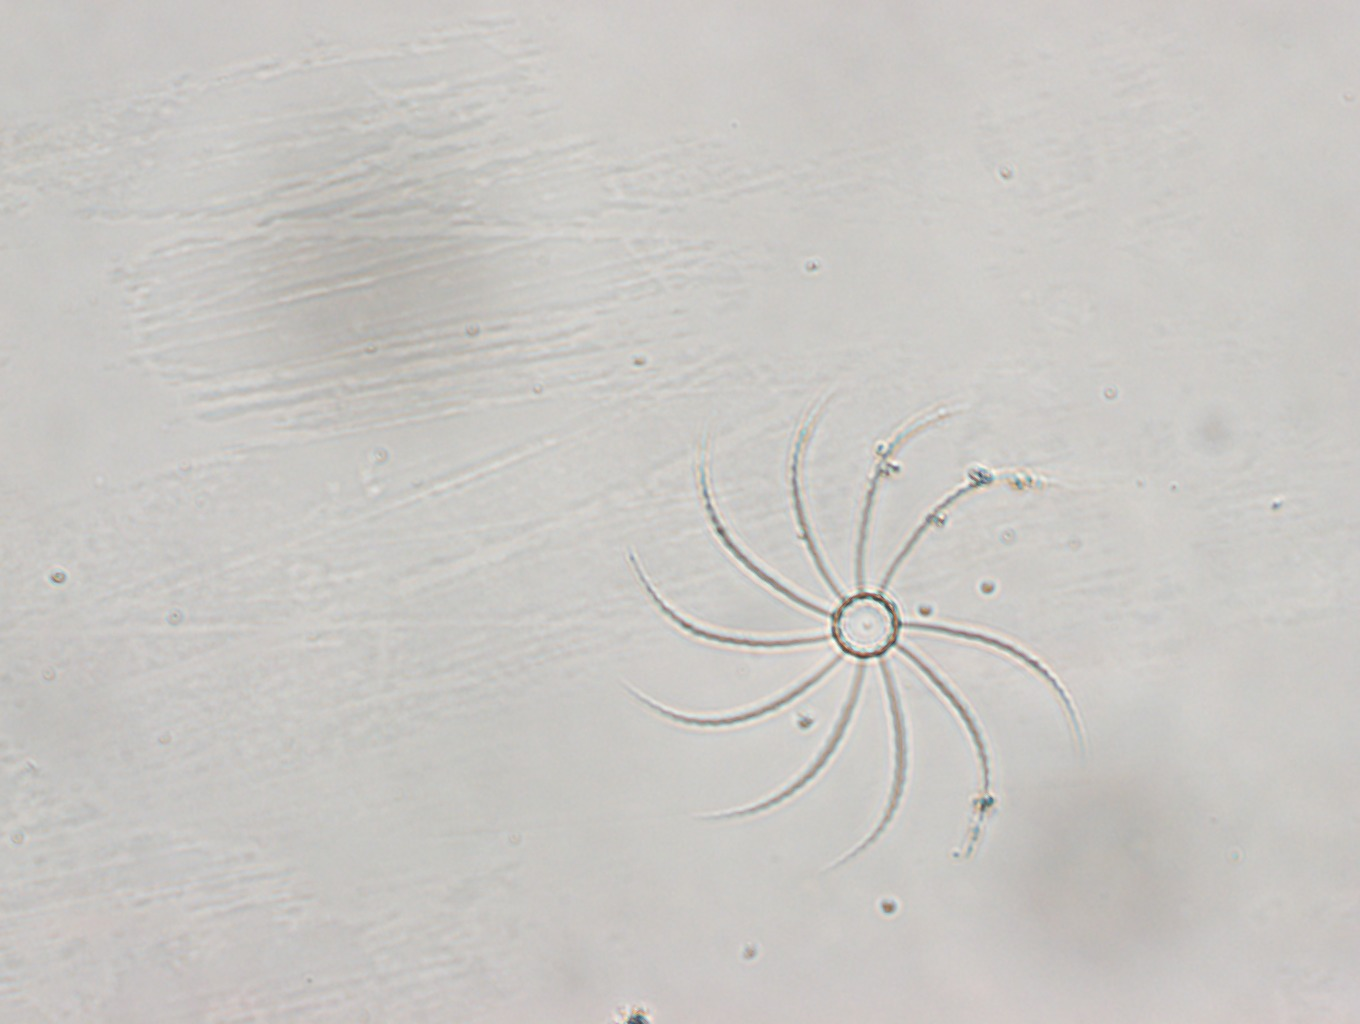bacteriastrum: (615, 389, 1085, 867)
